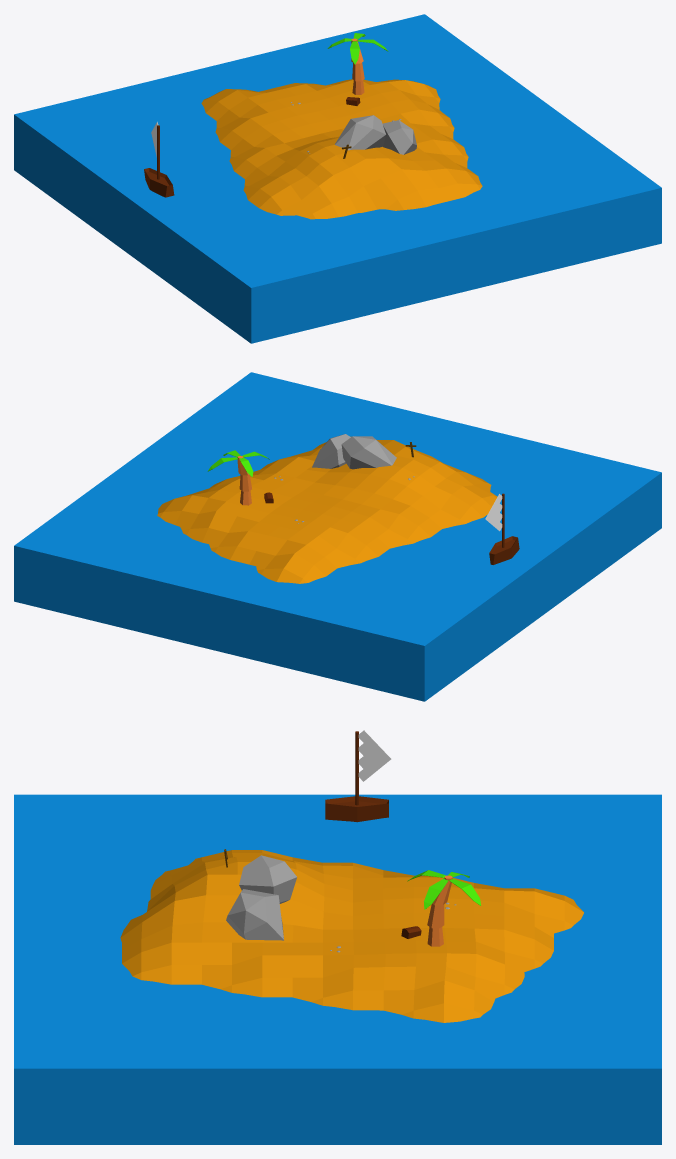
Rendered from island.glb.
3 views of the same model, one above another, from view 1: azimuth 30°, elevation 25°; view 2: azimuth 150°, elevation 25°; view 3: azimuth 270°, elevation 25° (orthographic). The views are drawn at different scales.
Visible parts, largest first — view 1: Water, Island, Rock2, Rock1, Boat; view 2: Water, Island, Rock2, Boat, Rock1; view 3: Water, Island, Boat, Rock1, Rock2, Trunk.
Part boxes in pixels (bbox=[...]): Water: bbox=[14, 14, 661, 343]; Island: bbox=[201, 79, 482, 219]; Rock2: bbox=[335, 115, 385, 150]; Rock1: bbox=[382, 120, 416, 154]; Boat: bbox=[144, 122, 174, 197]; Water: bbox=[14, 372, 661, 701]; Island: bbox=[157, 436, 497, 583]; Rock2: bbox=[341, 436, 396, 469]; Boat: bbox=[485, 493, 519, 564]; Rock1: bbox=[312, 434, 350, 468]; Water: bbox=[14, 794, 661, 1144]; Island: bbox=[120, 850, 583, 1022]; Boat: bbox=[325, 730, 391, 822]; Rock1: bbox=[226, 889, 283, 940]; Rock2: bbox=[239, 855, 296, 903]; Trunk: bbox=[427, 875, 452, 946].
Bounding box in the file's own units: 20.41 × 5.87 × 20.41.
